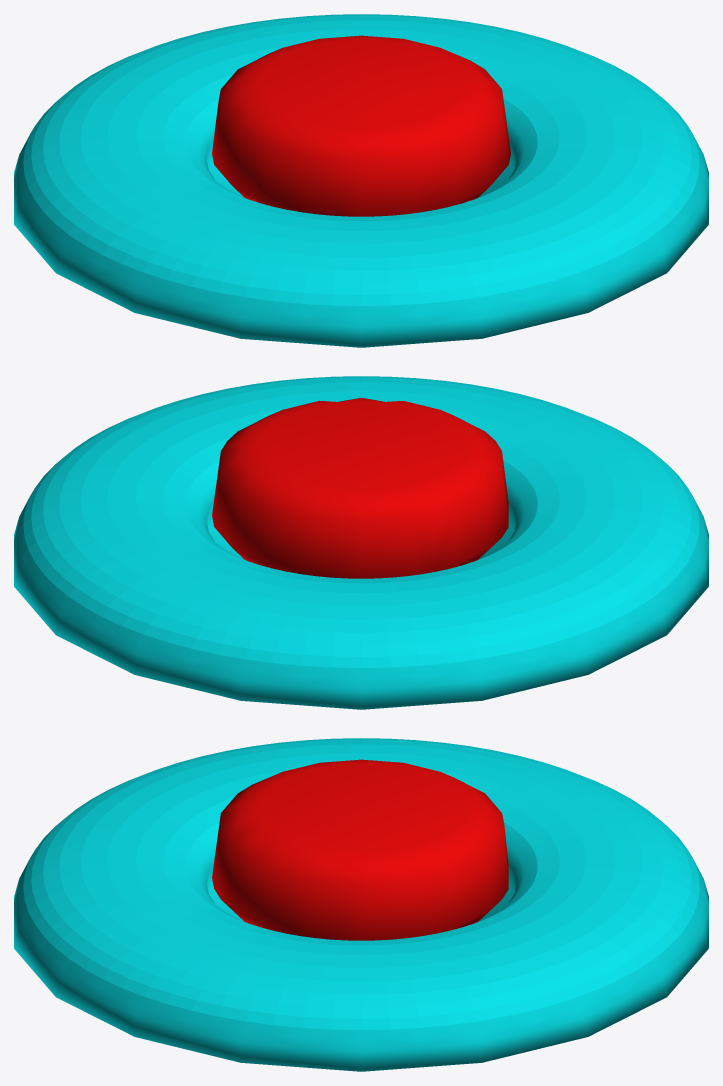
Rendered from Lichtknop_collider.fbx.
3 views of the same model, one above another, from view 1: azimuth 30°, elevation 25°; view 2: azimuth 150°, elevation 25°; view 3: azimuth 270°, elevation 25° (orthographic).
Parts seen in each view (by area): view 1: lichtding, knop; view 2: lichtding, knop; view 3: lichtding, knop.
Boxes of the visible parts, left/top/right/bottom form: lichtding: left=14, top=14, right=708, bottom=347; knop: left=212, top=35, right=510, bottom=216; lichtding: left=14, top=376, right=708, bottom=709; knop: left=212, top=397, right=508, bottom=578; lichtding: left=14, top=738, right=708, bottom=1071; knop: left=212, top=759, right=508, bottom=940.
Size of the model in its own units: 0.2 by 0.036 by 0.197.
